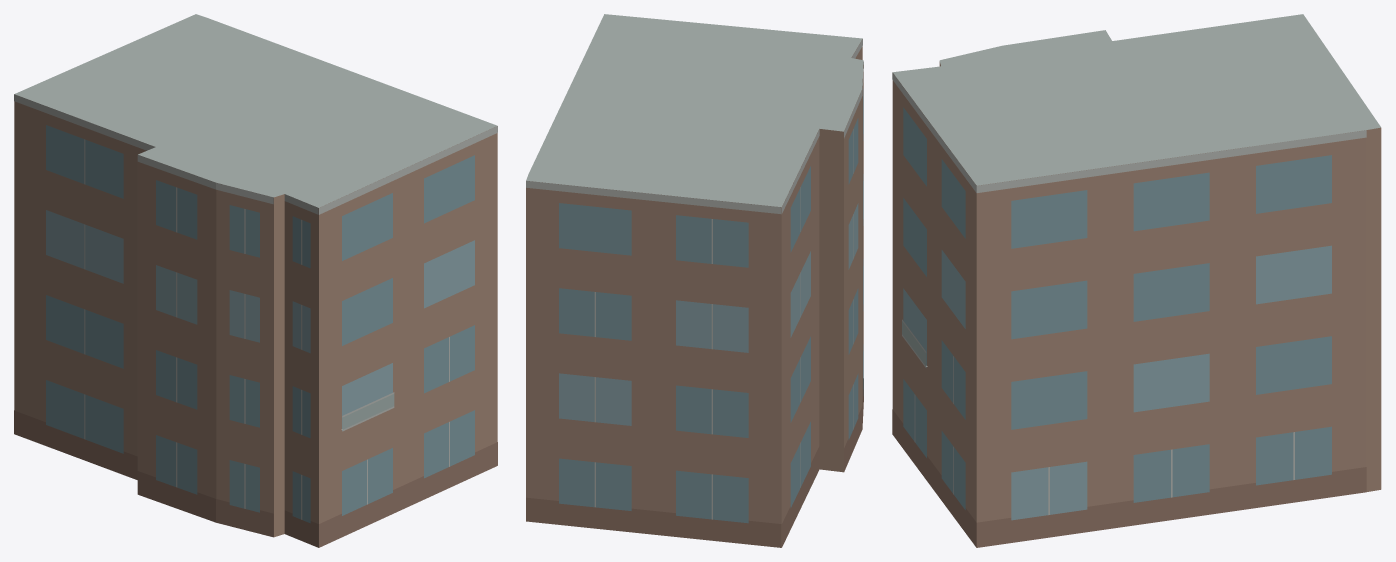
Rendered from survey-upis-32772871.glb.
3 renders of one model, left to right at view 1: azimuth 30°, elevation 25°; view 2: azimuth 150°, elevation 25°; view 3: azimuth 270°, elevation 25°, orthographic. The views are drawn at different scales.
Visible parts, largest first — view 1: survey-upis-32772871.tmp; view 2: survey-upis-32772871.tmp; view 3: survey-upis-32772871.tmp.
Part boxes in pixels (left/top/right/bottom): survey-upis-32772871.tmp: left=14, top=14, right=497, bottom=547; survey-upis-32772871.tmp: left=526, top=14, right=863, bottom=547; survey-upis-32772871.tmp: left=892, top=14, right=1381, bottom=547.
Bounding box in the file's own units: 12.01 × 11.8 × 14.45.
